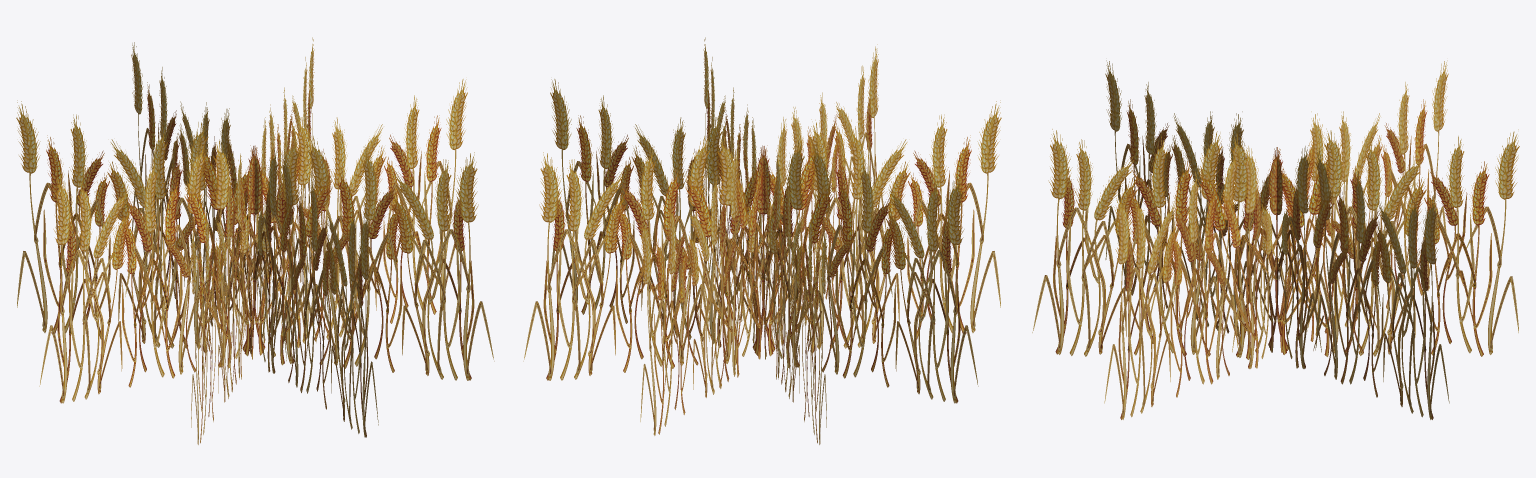
Rendered from OU_AR_Wheat_01_D.fbx.
3 renders of one model, left to right at view 1: azimuth 30°, elevation 25°; view 2: azimuth 150°, elevation 25°; view 3: azimuth 270°, elevation 25°, orthographic.
Visible parts, largest first — view 1: Plane012; view 2: Plane012; view 3: Plane012.
Boxes of the visible parts, x1,y1,x2,y2 form: Plane012: (16,37,494,444); Plane012: (523,37,1001,444); Plane012: (1032,60,1519,419).
Bounding box in the file's own units: 180 × 98.67 × 180.
Materials: 1 (1 with a texture image).
